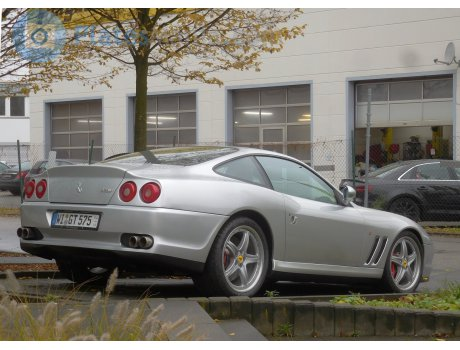License Plates: (52, 209, 95, 227)
